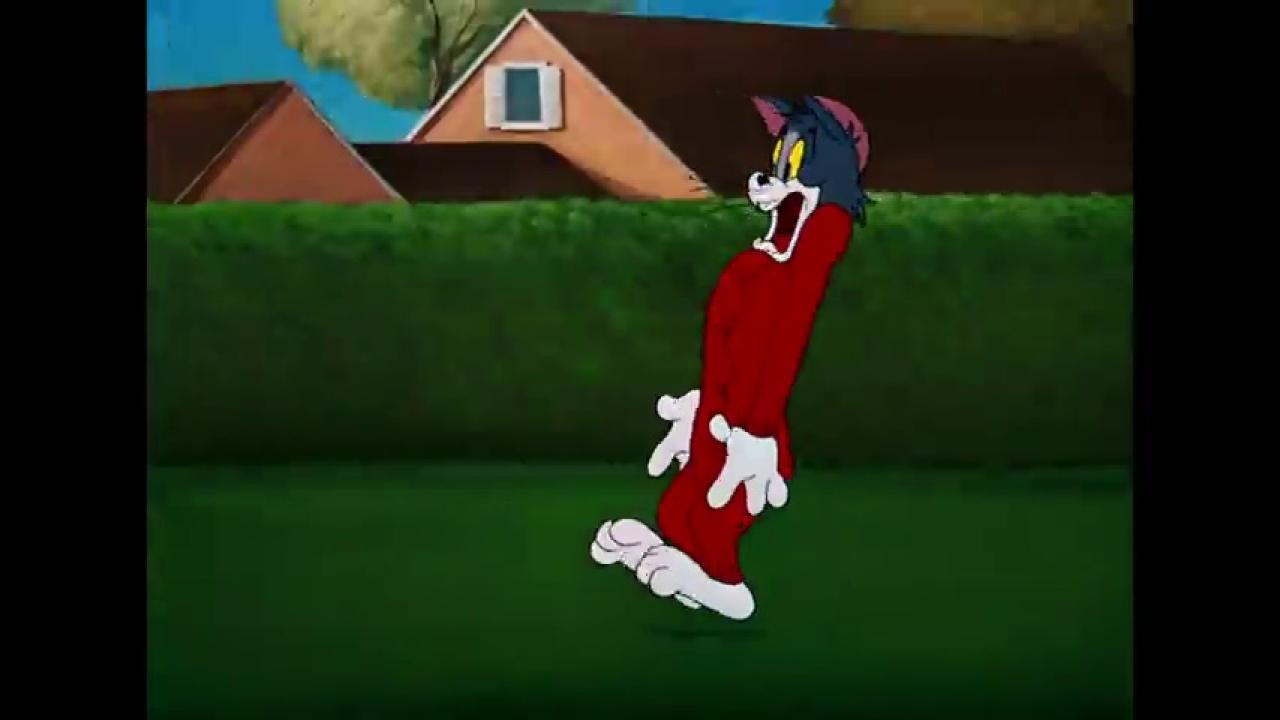Tom: (590, 88, 874, 623)
